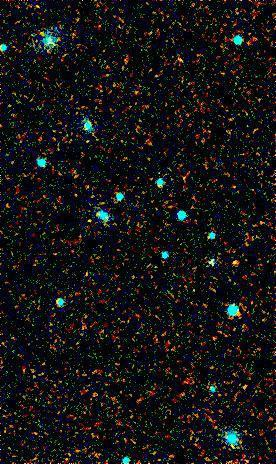star: (220, 249, 250, 279)
